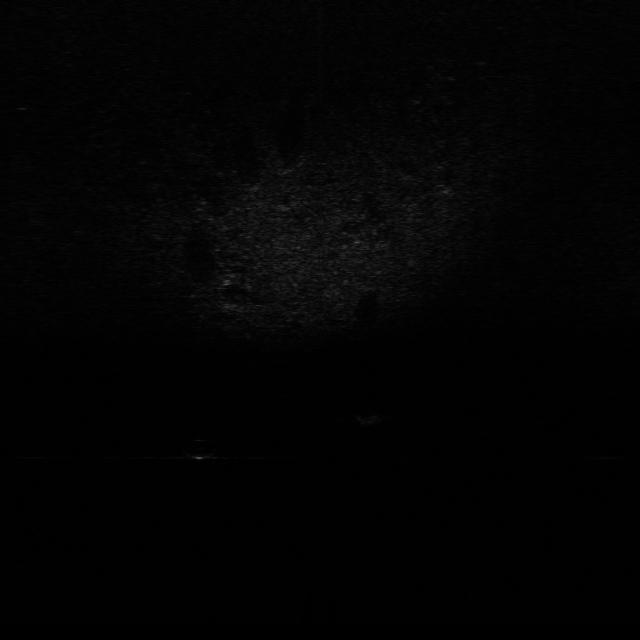ball: (180, 436, 218, 461)
cube: (351, 406, 382, 428)
